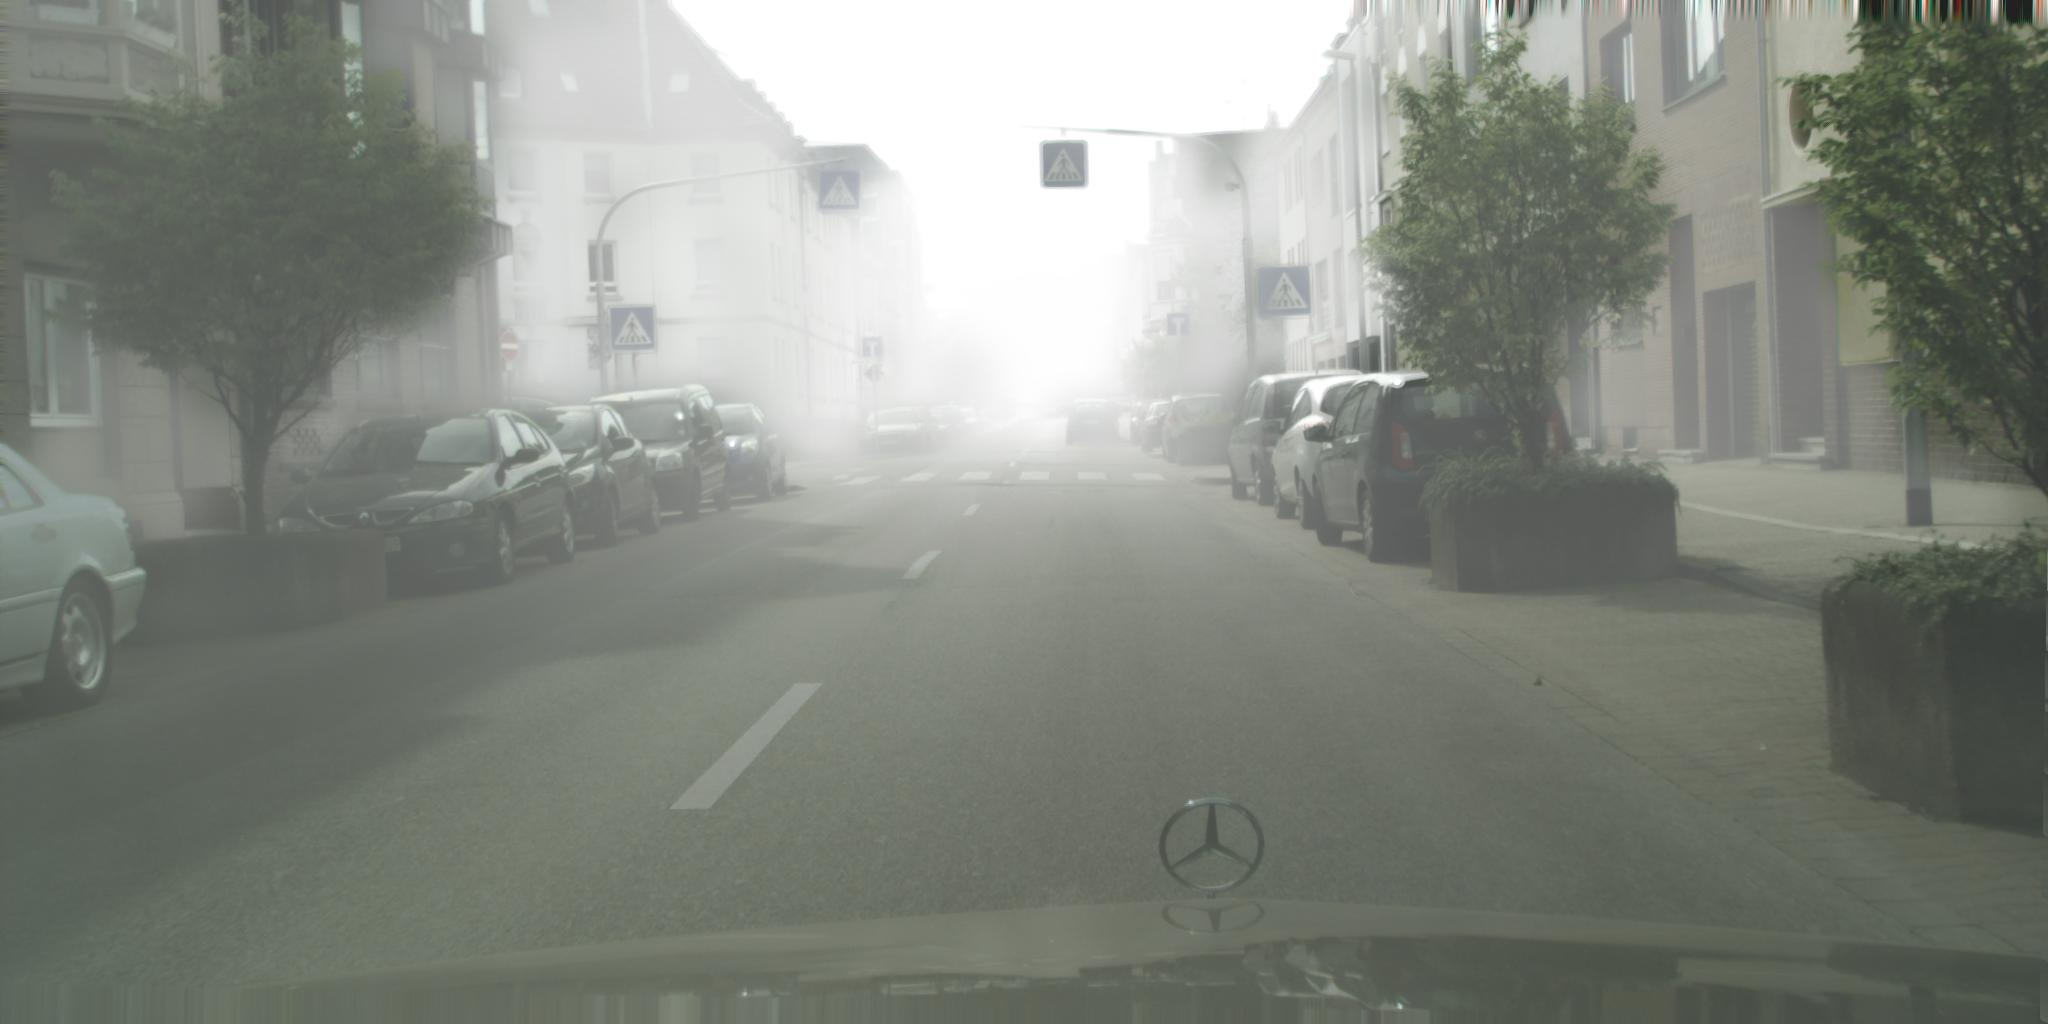car: (1304, 366, 1578, 566), (278, 408, 576, 588), (1, 438, 148, 717), (515, 404, 664, 549), (590, 383, 733, 522), (1271, 374, 1392, 533), (1226, 366, 1364, 505), (711, 402, 789, 504), (1162, 391, 1236, 464), (859, 408, 927, 457), (1066, 398, 1121, 448), (891, 406, 940, 453), (1138, 401, 1177, 455), (1131, 398, 1172, 445), (936, 406, 968, 443), (927, 409, 953, 447), (502, 398, 562, 413), (955, 409, 984, 438), (950, 398, 980, 422), (1017, 404, 1058, 421), (1045, 404, 1066, 415), (1063, 401, 1078, 414)
